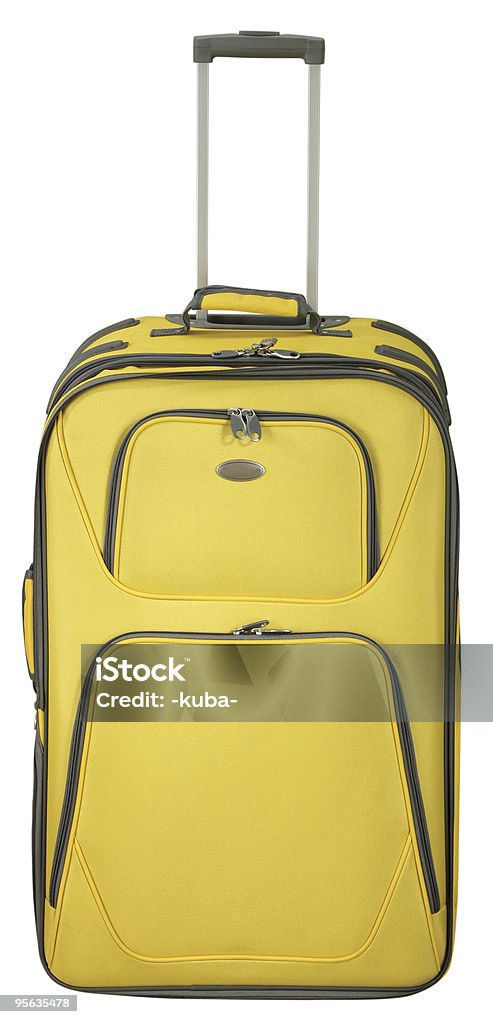Bag: (21, 13, 473, 1014)
Handle: (173, 23, 335, 332)
